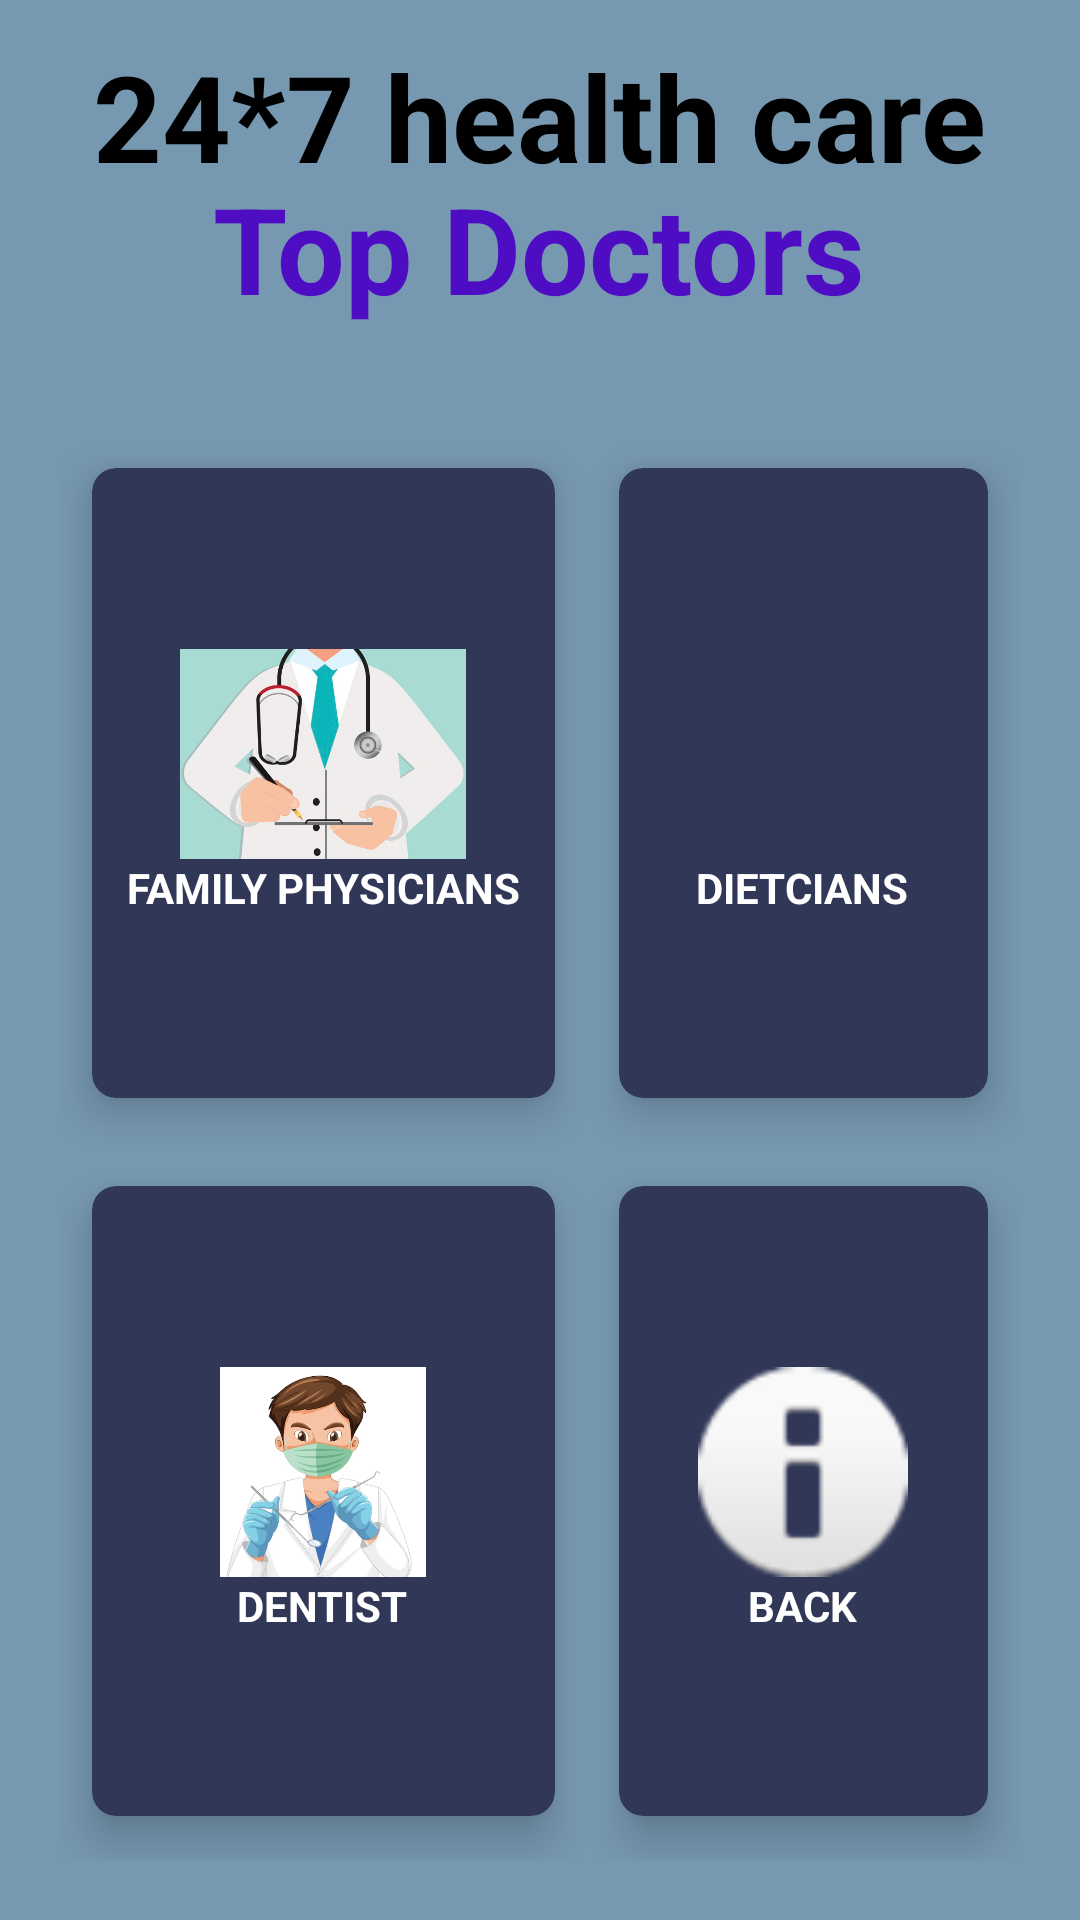

Icon bounding boxes for this 1080x1920 phone screenshot, format (x1, y1, x2, y2):
info: (698, 1367, 908, 1577)
